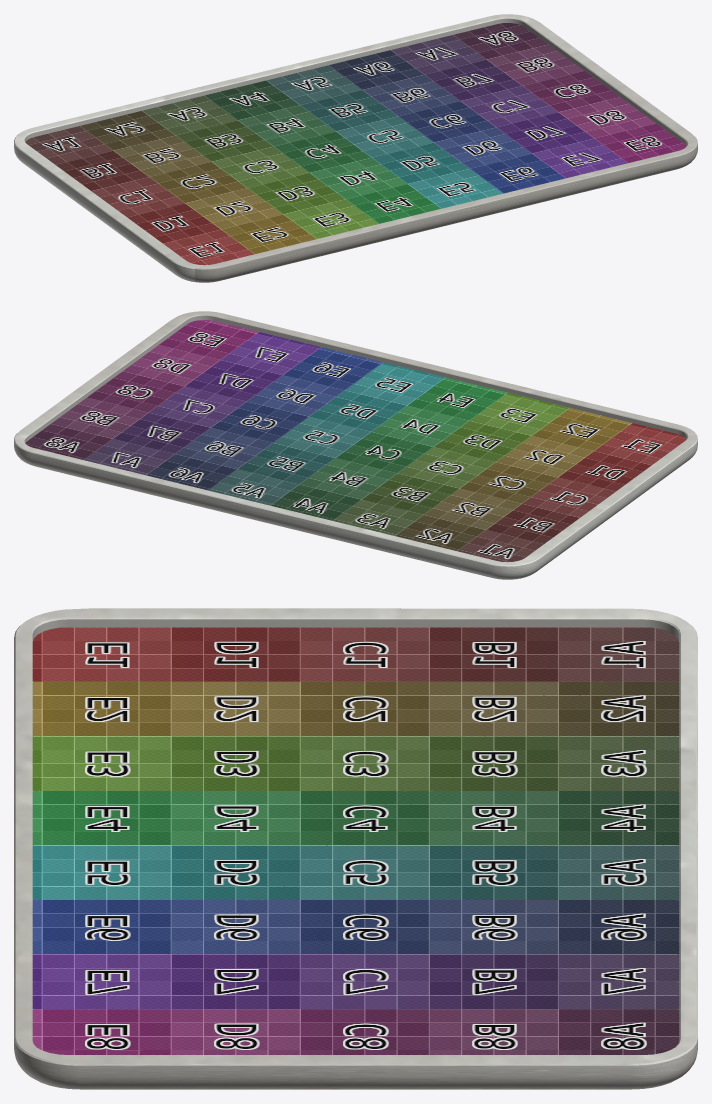
The model's file is monitor-01.glb.
The picture shows the model from 3 angles, top to bottom: view 1: azimuth 30°, elevation 25°; view 2: azimuth 150°, elevation 25°; view 3: azimuth 270°, elevation 25°; orthographic projection. The views are drawn at different scales.
Parts seen in each view (by area): view 1: screen, monitor-outer; view 2: screen, monitor-outer; view 3: screen, monitor-outer.
Boxes of the visible parts, x1,y1,x2,y2 form: screen: (25,23,686,265); monitor-outer: (14,14,697,282); screen: (25,320,686,562); monitor-outer: (14,311,697,579); screen: (32,627,679,1054); monitor-outer: (14,608,697,1089).
Size of what is drawn, in the model's own units: 30 by 1 by 19.
Materials: 2 (2 with a texture image).
